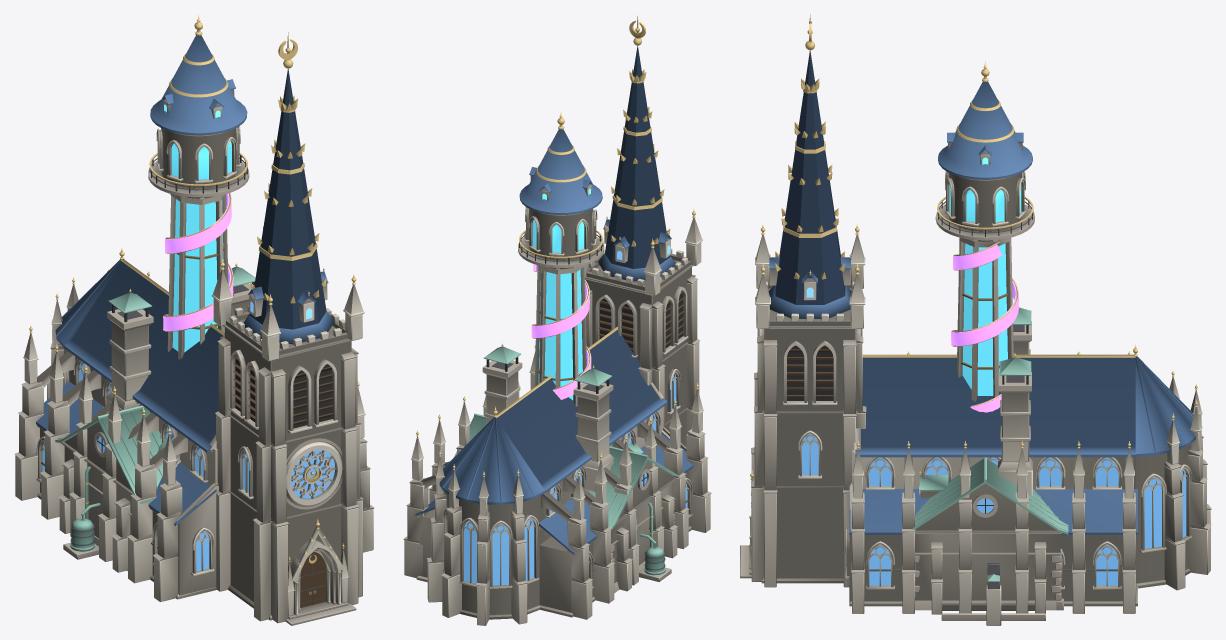
Rendered from tidecrown-city.glb.
3 views of the same model, side by side, from view 1: azimuth 30°, elevation 25°; view 2: azimuth 150°, elevation 25°; view 3: azimuth 270°, elevation 25° (orthographic). The views are drawn at different scales.
Parts seen in each view (by area): view 1: TC_Cathedral_mesh, TC_SeaglassTower_mesh, TC_Forge_mesh; view 2: TC_Cathedral_mesh, TC_SeaglassTower_mesh, TC_Forge_mesh; view 3: TC_Cathedral_mesh, TC_Forge_mesh, TC_SeaglassTower_mesh.
Boxes of the visible parts, x1,y1,x2,y2 form: TC_Cathedral_mesh: (14, 32, 374, 625); TC_SeaglassTower_mesh: (148, 14, 249, 359); TC_Forge_mesh: (55, 262, 255, 572); TC_Cathedral_mesh: (403, 15, 711, 625); TC_SeaglassTower_mesh: (518, 111, 604, 406); TC_Forge_mesh: (454, 343, 679, 592); TC_Cathedral_mesh: (740, 14, 1211, 613); TC_Forge_mesh: (911, 307, 1068, 625); TC_SeaglassTower_mesh: (935, 61, 1034, 412).
Bounding box in the file's own units: 35.05 × 77.95 × 56.54.
